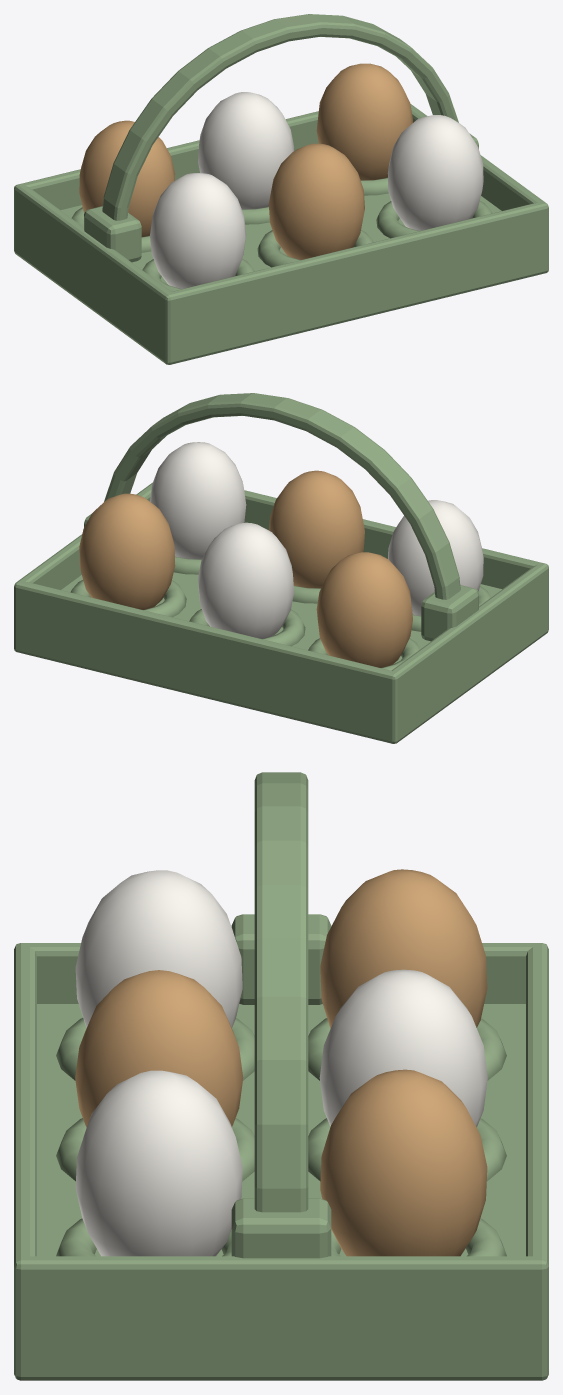
Rendered from hh_cat_egg_box.glb.
3 views of the same model, one above another, from view 1: azimuth 30°, elevation 25°; view 2: azimuth 150°, elevation 25°; view 3: azimuth 270°, elevation 25° (orthographic). The views are drawn at different scales.
Parts seen in each view (by area): view 1: wall, handle, wall.001, egg.001, egg, egg.002, base, egg.004, egg.005, egg.003, wall.002, handle_mount (+4 smaller); view 2: wall.002, wall.001, handle, egg.005, egg.004, egg.003, egg.001, egg.002, base, egg, wall, handle_mount (+4 smaller); view 3: wall.003, base, egg.005, egg.002, handle, egg.004, egg.003, egg, egg.001, wall, wall.002, handle_mount.001 (+8 smaller).
Part boxes in pixels (box(x1,y1,x2,y2)): wall: box(162, 202, 548, 364); handle: box(102, 14, 458, 220); wall.001: box(14, 183, 175, 364); egg.001: box(268, 143, 364, 259); egg: box(150, 173, 246, 288); egg.002: box(387, 115, 483, 230); base: box(18, 193, 501, 352); egg.004: box(198, 92, 294, 209); egg.005: box(316, 63, 412, 180); egg.003: box(79, 120, 175, 236); wall.002: box(14, 111, 318, 254); handle_mount: box(84, 206, 141, 262); wall.002: box(14, 581, 398, 743); wall.001: box(387, 562, 548, 743); handle: box(104, 393, 460, 599); egg.005: box(79, 493, 175, 609); egg.004: box(198, 522, 294, 638); egg.003: box(316, 552, 412, 667); egg.001: box(269, 470, 364, 588); egg.002: box(150, 442, 246, 559); base: box(23, 572, 501, 731); egg: box(388, 500, 483, 615); wall: box(244, 490, 548, 632); handle_mount: box(421, 585, 478, 641); wall.003: box(14, 1256, 548, 1380); base: box(35, 1004, 527, 1363); egg.005: box(320, 1069, 487, 1256); egg.002: box(75, 1070, 242, 1256); handle: box(254, 772, 308, 1212); egg.004: box(319, 969, 487, 1127); egg.003: box(320, 869, 487, 1028); egg: box(75, 870, 242, 1027); egg.001: box(75, 970, 243, 1127); wall: box(14, 943, 36, 1380); wall.002: box(526, 943, 548, 1380); handle_mount.001: box(231, 1198, 331, 1258).
Size of the model in its own units: 0.2 by 0.12 by 0.14.
